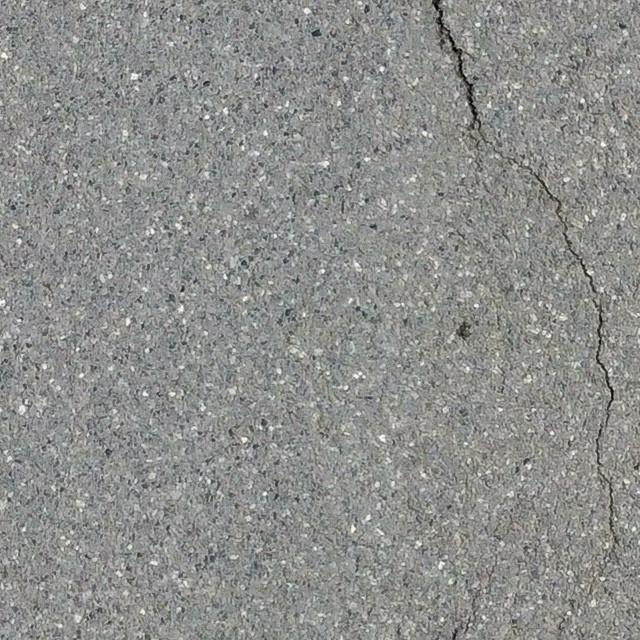LongitudinalCrack: (430, 1, 620, 543)
